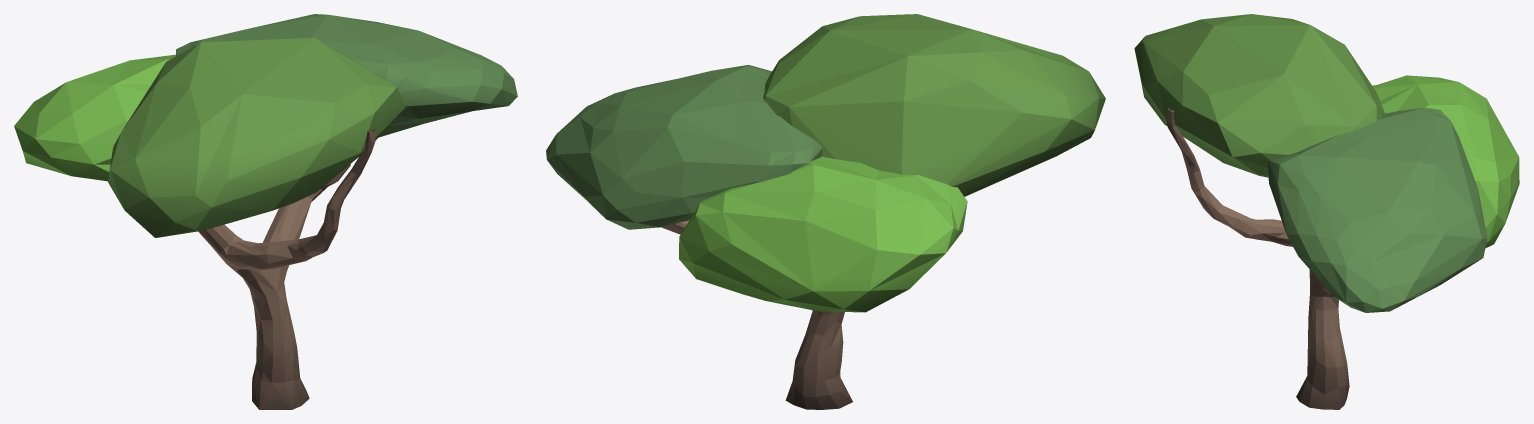
Rendered from JungleTree_Med_C.fbx.
3 views of the same model, side by side, from view 1: azimuth 30°, elevation 25°; view 2: azimuth 150°, elevation 25°; view 3: azimuth 270°, elevation 25° (orthographic). The views are drawn at different scales.
Visible parts, largest first — view 1: JungleTree_Med_C; view 2: JungleTree_Med_C; view 3: JungleTree_Med_C.
Part boxes in pixels (box(x1,y1,x2,y2)): JungleTree_Med_C: box(14, 14, 517, 409); JungleTree_Med_C: box(546, 14, 1105, 409); JungleTree_Med_C: box(1134, 14, 1519, 409).
Bounding box in the file's own units: 13.21 × 10.01 × 10.38.
